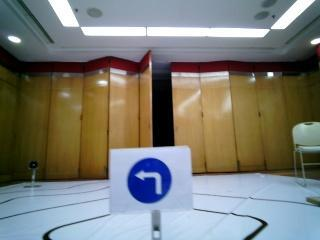left: (108, 148, 187, 205)
